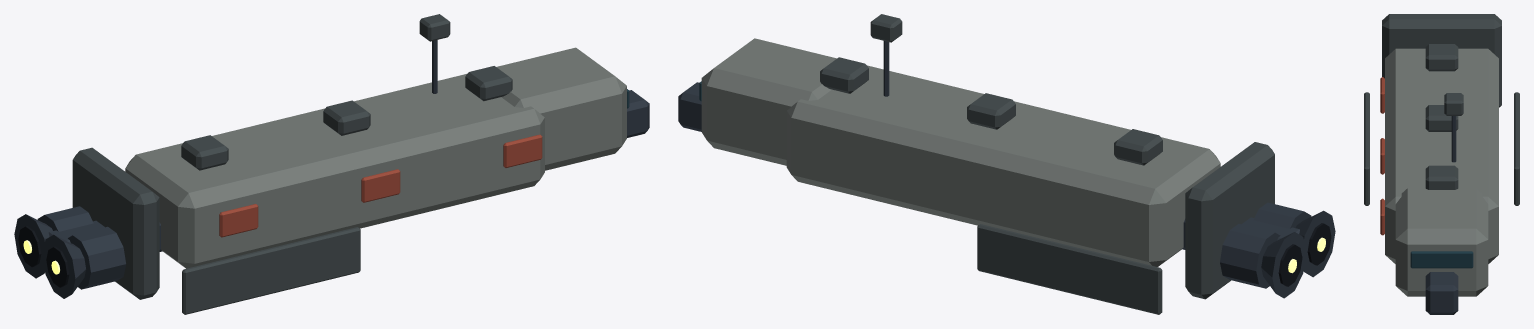
Rendered from common-defense.glb.
3 renders of one model, left to right at view 1: azimuth 30°, elevation 25°; view 2: azimuth 150°, elevation 25°; view 3: azimuth 270°, elevation 25°, orthographic. The views are drawn at different scales.
Parts seen in each view (by area): view 1: armored mission hull, forward command, shuttered radiator, reactor shield, engine jacket, engine bell, structural spine, dorsal mount, dorsal mount.001, dorsal mount.002, weapon access.002, weapon access.001 (+6 smaller); view 2: armored mission hull, forward command, shuttered radiator.001, reactor shield, engine jacket.001, structural spine, engine bell.001, dorsal mount, dorsal mount.001, dorsal mount.002, engine bell, engine jacket (+3 smaller); view 3: armored mission hull, forward command, reactor shield, structural spine, bridge glazing, dorsal mount, dorsal mount.002, dorsal mount.001, shuttered radiator, shuttered radiator.001, sensor head, radio mast (+3 smaller).
Part boxes in pixels (left/top/right/bottom): armored mission hull: left=125, top=74, right=544, bottom=268; forward command: left=496, top=47, right=626, bottom=170; shuttered radiator: left=182, top=227, right=360, bottom=314; reactor shield: left=72, top=147, right=159, bottom=299; engine jacket: left=68, top=226, right=125, bottom=289; engine bell: left=42, top=234, right=85, bottom=298; structural spine: left=48, top=90, right=649, bottom=251; dorsal mount: left=181, top=135, right=228, bottom=170; dorsal mount.001: left=323, top=100, right=370, bottom=135; dorsal mount.002: left=465, top=66, right=512, bottom=101; weapon access.002: left=503, top=134, right=542, bottom=167; weapon access.001: left=361, top=169, right=400, bottom=202; armored mission hull: left=786, top=65, right=1220, bottom=266; forward command: left=701, top=38, right=836, bottom=165; shuttered radiator.001: left=977, top=224, right=1162, bottom=314; reactor shield: left=1185, top=142, right=1274, bottom=299; engine jacket.001: left=1220, top=224, right=1280, bottom=288; structural spine: left=678, top=82, right=1299, bottom=249; engine bell.001: left=1261, top=232, right=1306, bottom=298; dorsal mount: left=1114, top=129, right=1162, bottom=165; dorsal mount.001: left=967, top=93, right=1015, bottom=129; dorsal mount.002: left=820, top=57, right=868, bottom=93; engine bell: left=1295, top=210, right=1335, bottom=277; engine jacket: left=1253, top=202, right=1311, bottom=228; armored mission hull: left=1385, top=48, right=1498, bottom=263; forward command: left=1395, top=188, right=1488, bottom=296; reactor shield: left=1382, top=14, right=1501, bottom=107; structural spine: left=1425, top=272, right=1458, bottom=314; bridge glazing: left=1410, top=251, right=1473, bottom=268; dorsal mount: left=1425, top=44, right=1458, bottom=71; dorsal mount.002: left=1425, top=165, right=1458, bottom=189; dorsal mount.001: left=1425, top=105, right=1458, bottom=131; shuttered radiator: left=1364, top=92, right=1369, bottom=205; shuttered radiator.001: left=1514, top=92, right=1519, bottom=205; sensor head: left=1444, top=93, right=1463, bottom=115; radio mast: left=1451, top=116, right=1456, bottom=162.
Bounding box in the file's own units: 10.17 × 3 × 2.6.
